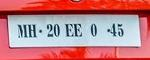0: (90, 23, 98, 37), (53, 24, 61, 37)
2: (46, 24, 54, 38)
4: (109, 22, 117, 37)
5: (117, 23, 125, 38)
E: (73, 23, 84, 37), (64, 23, 74, 37)
H: (27, 23, 37, 38)
M: (17, 24, 28, 39)
